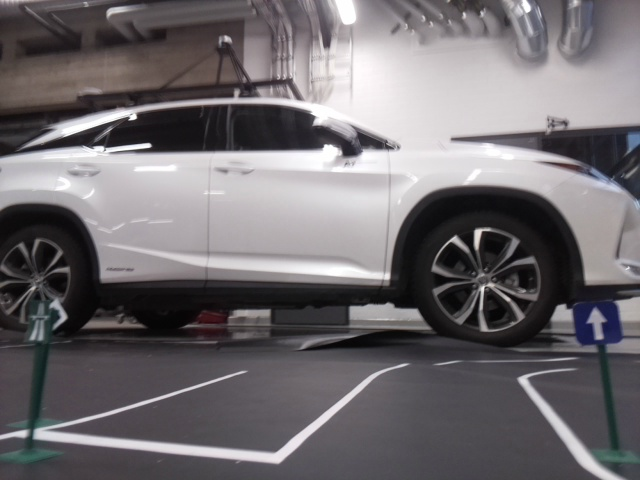OneWay: (571, 303, 623, 343)
